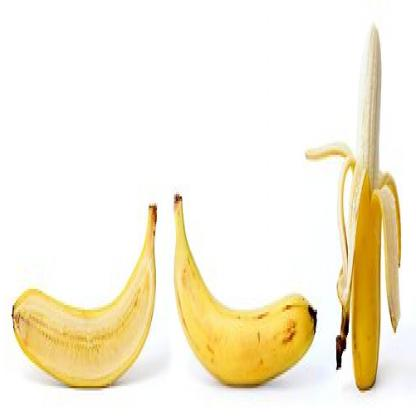banana: (10, 185, 164, 402), (166, 187, 320, 400)
